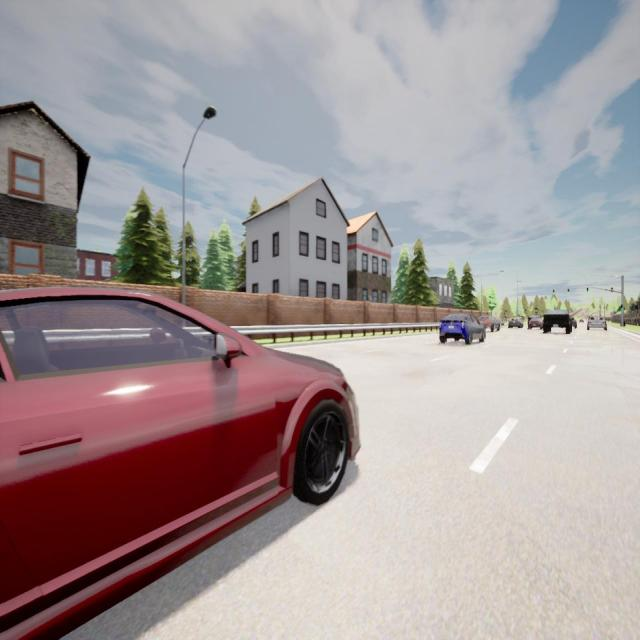Vehicle: (0, 290, 360, 637), (439, 313, 485, 347), (543, 309, 572, 334), (478, 314, 500, 332), (587, 313, 607, 331), (527, 316, 542, 330), (508, 318, 523, 328), (572, 317, 578, 328), (579, 318, 584, 322)
traffic_light: (621, 304, 623, 313), (553, 289, 555, 297), (568, 289, 570, 296), (587, 288, 588, 294)
